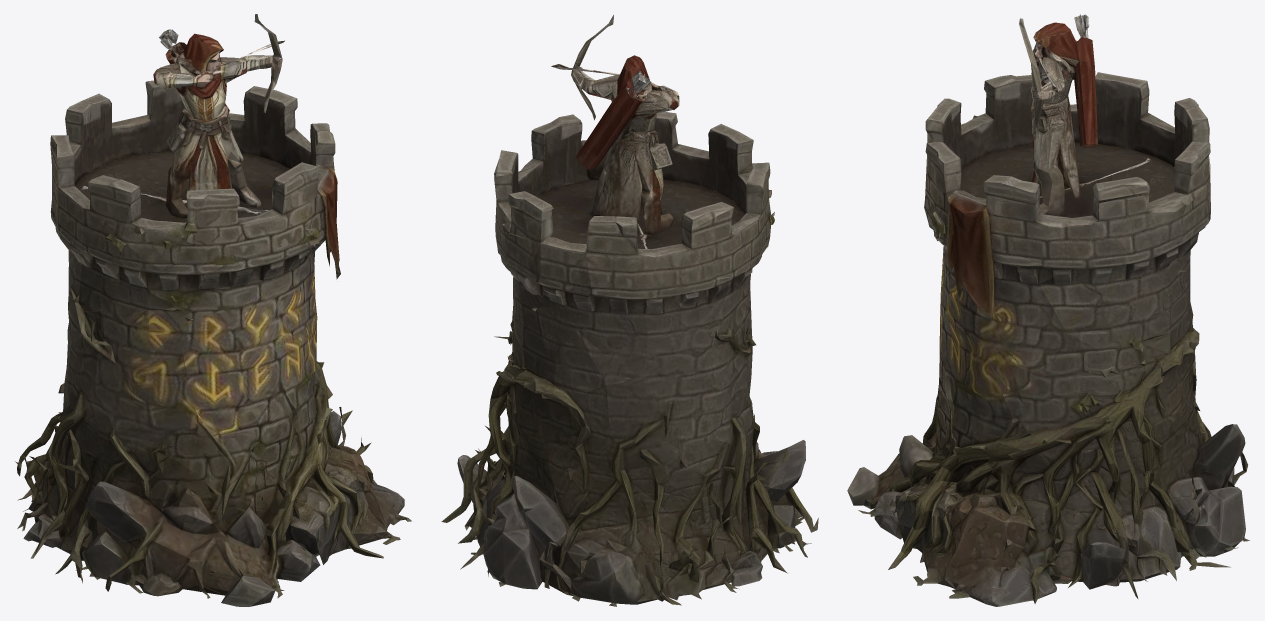
File: model.opt.glb
The picture shows the model from 3 angles, left to right: view 1: azimuth 30°, elevation 25°; view 2: azimuth 150°, elevation 25°; view 3: azimuth 270°, elevation 25°; orthographic projection. The views are drawn at different scales.
Bounding box in the file's own units: 1.32 × 1.9 × 1.33.
1 material, 1 textured.
